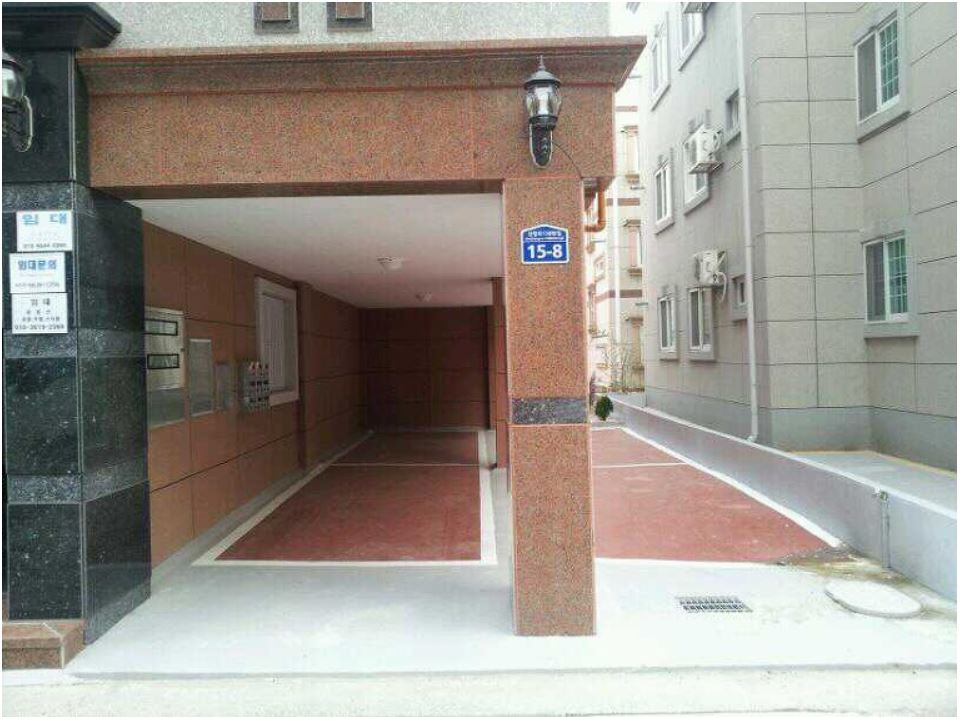building_license_plate1: (520, 224, 568, 265)
